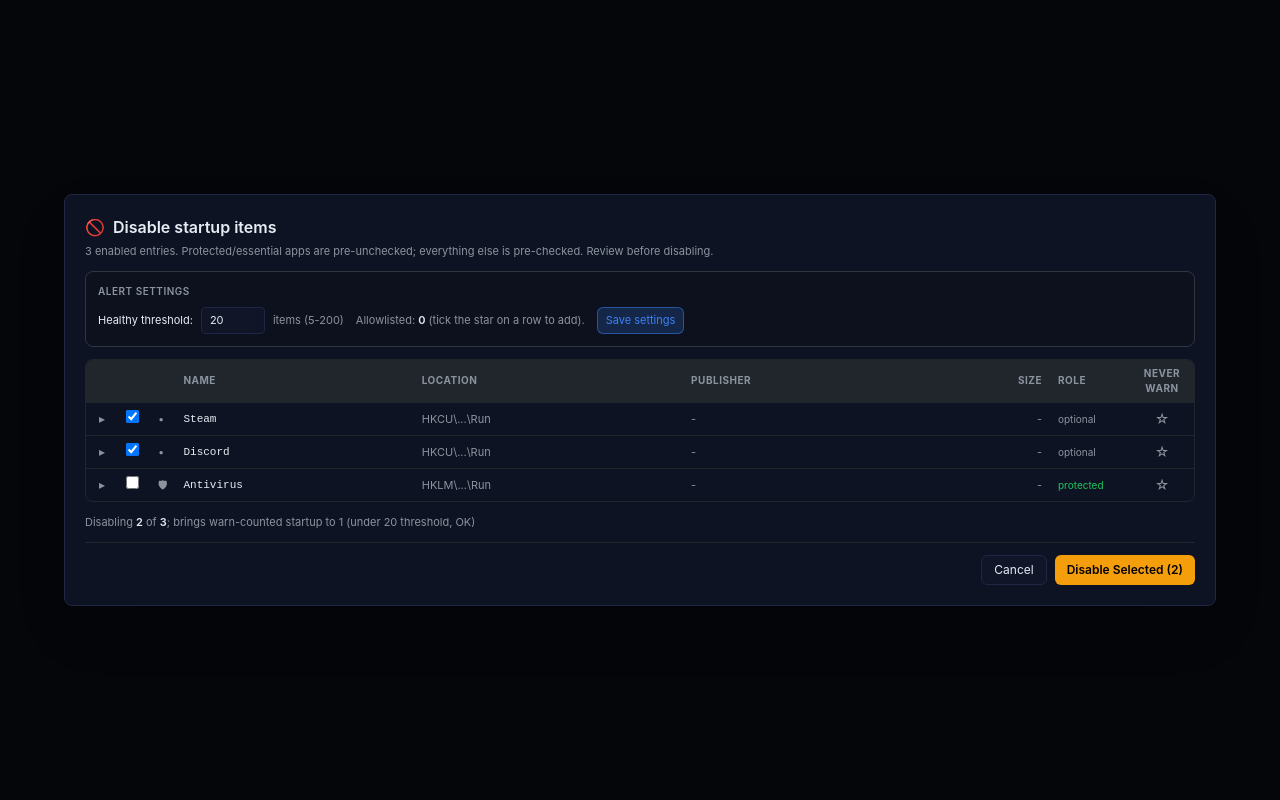
Test case: <StartupPickerModal> v2.4.13 — threshold + allowlist › clicking a Never-warn star toggles the allowlist state (off -> on)
Click the button named "Add Steam to allowlist". click: {"x": 1162, "y": 419}
box: top-left (1155, 409), bottom-right (1169, 429)
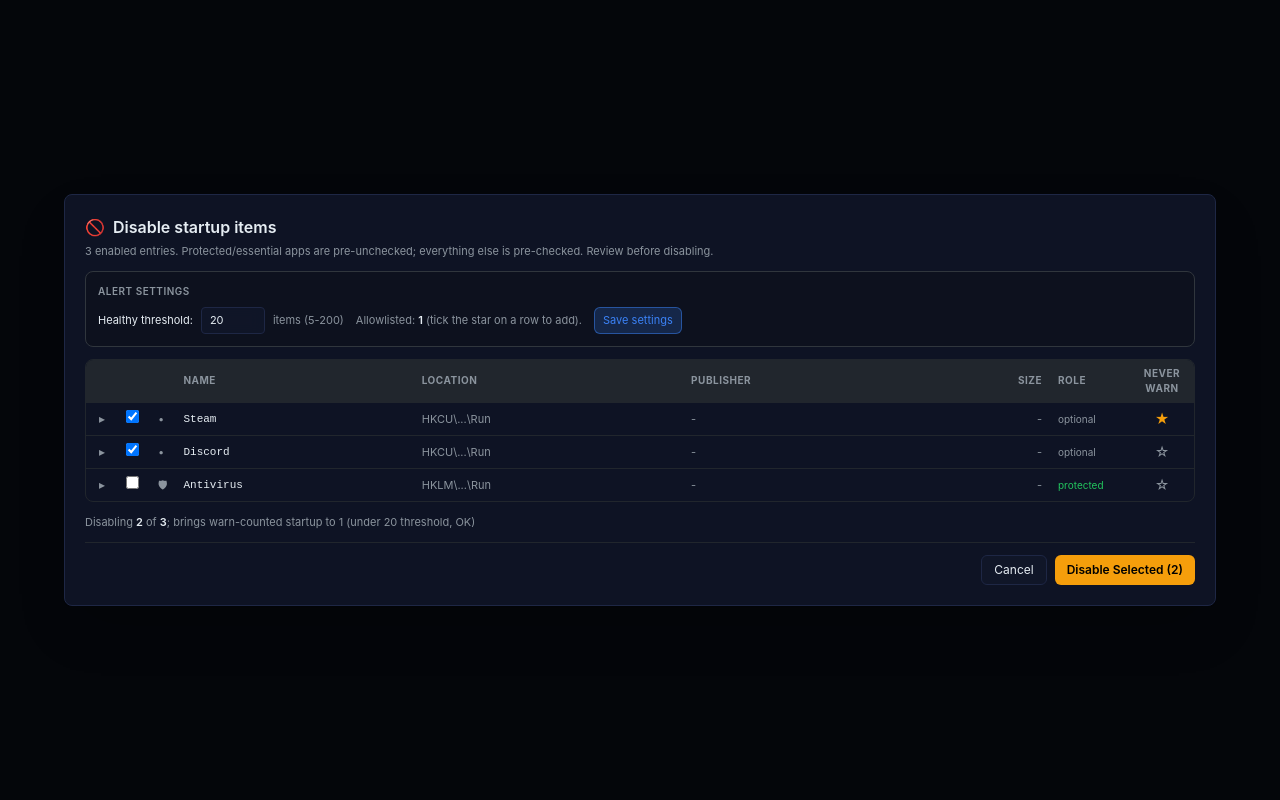
Expected: the button named "Remove Steam from allowlist" is shown, top-left (1155, 409), bottom-right (1169, 429)
